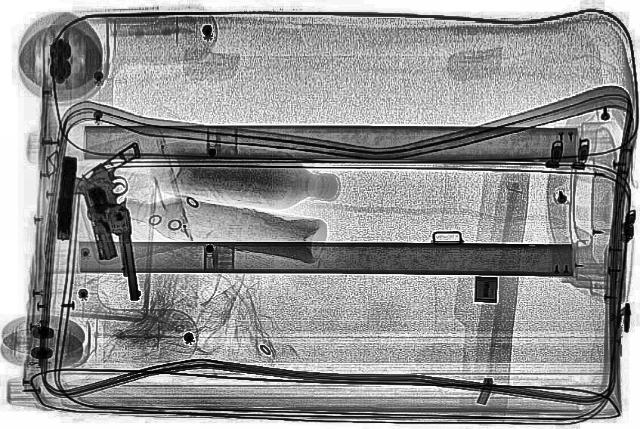Gun: (64, 142, 154, 258), (85, 194, 159, 304), (47, 150, 91, 250)
